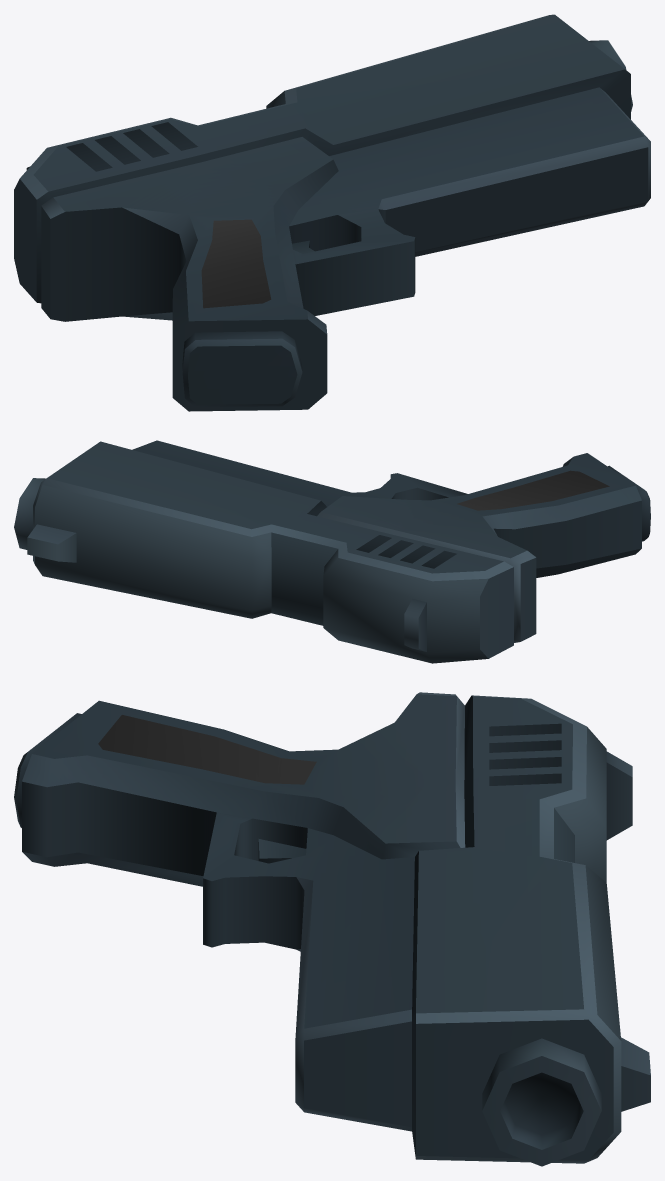
Rendered from Weapon_Pistol.fbx.
The picture shows the model from 3 angles, top to bottom: view 1: azimuth 30°, elevation 25°; view 2: azimuth 150°, elevation 25°; view 3: azimuth 270°, elevation 25°; orthographic projection. The views are drawn at different scales.
Visible parts, largest first — view 1: Weapon_Pistol; view 2: Weapon_Pistol; view 3: Weapon_Pistol.
Boxes of the visible parts, x1,y1,x2,y2 form: Weapon_Pistol: (14, 14, 650, 411); Weapon_Pistol: (14, 440, 650, 663); Weapon_Pistol: (14, 692, 650, 1166).
Bounding box in the file's own units: 0.3822 × 0.0764 × 0.2859.
